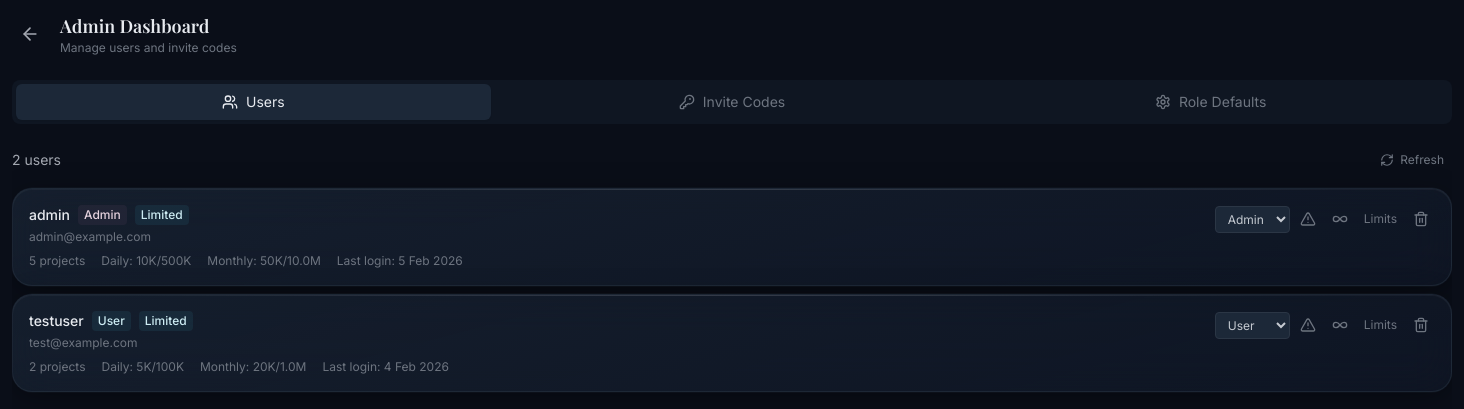
Scenario: AdminDashboard › switches to Invite Codes tab when clicked
Click the tab "Invite Codes".
click(732, 102)  # box [495, 84, 969, 120]
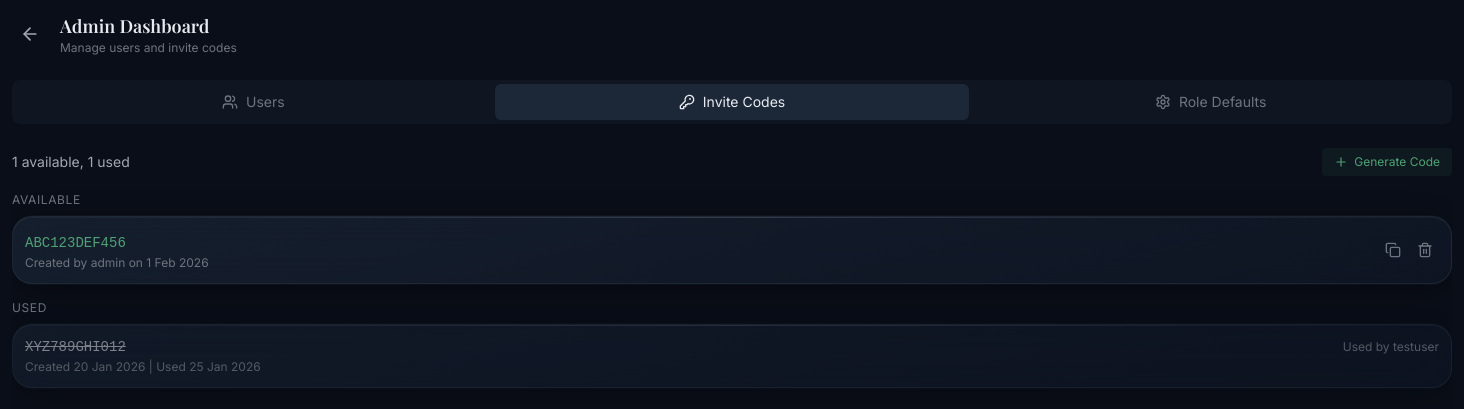
Expected: the text "ABC123DEF456" is shown, [25, 235, 126, 251]
Expected: the text "XYZ789GHI012" is shown, [25, 337, 126, 357]
